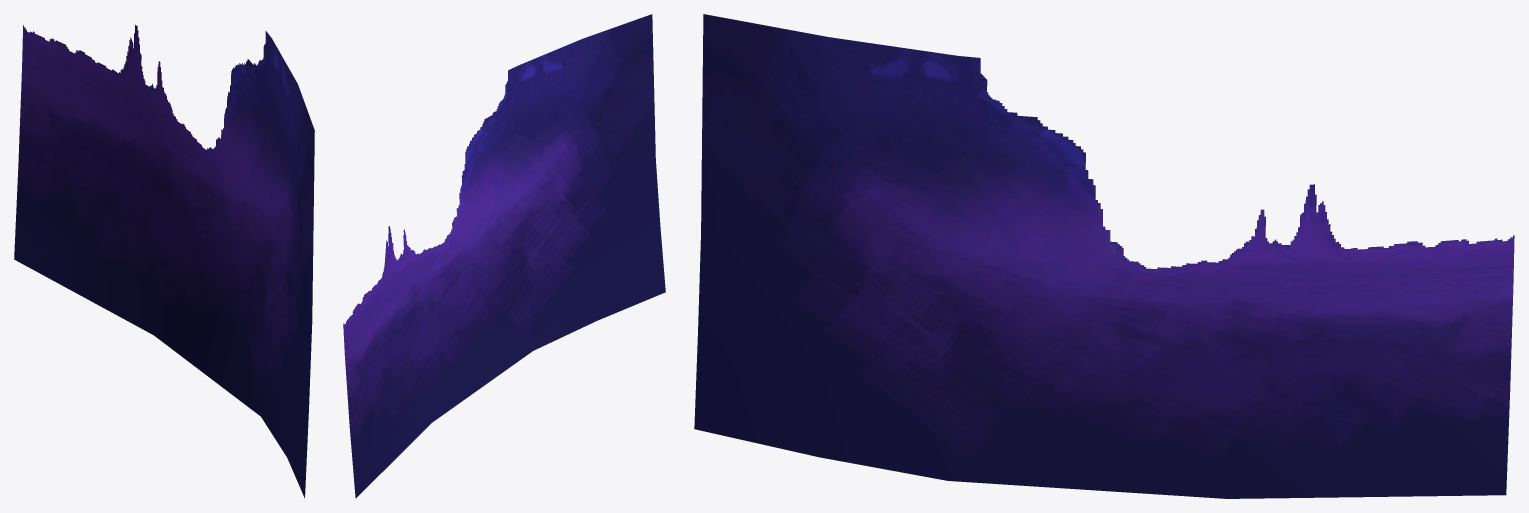
The model's file is SWORDLIGHT20_PS-AREA05-RANGE03_03.fbx.
3 renders of one model, left to right at view 1: azimuth 30°, elevation 25°; view 2: azimuth 150°, elevation 25°; view 3: azimuth 270°, elevation 25°, orthographic. The views are drawn at different scales.
Parts seen in each view (by area): view 1: SWORDLIGHT20_PS-AREA05-RANGE03_03; view 2: SWORDLIGHT20_PS-AREA05-RANGE03_03; view 3: SWORDLIGHT20_PS-AREA05-RANGE03_03.
Part boxes in pixels (x1,y1,x2,y2): SWORDLIGHT20_PS-AREA05-RANGE03_03: (14,25,314,498); SWORDLIGHT20_PS-AREA05-RANGE03_03: (343,14,665,498); SWORDLIGHT20_PS-AREA05-RANGE03_03: (694,14,1514,498).
Size of the model in its own units: 67376 by 253833 by 413185.
Materials: 8 (8 with a texture image).
